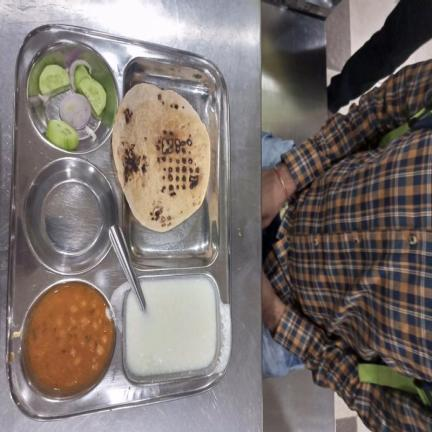Chhole: (26, 284, 113, 395)
Dahi: (126, 276, 217, 378)
Plate: (5, 23, 234, 422)
Roti: (112, 82, 212, 233)
Salad: (39, 59, 108, 150)
